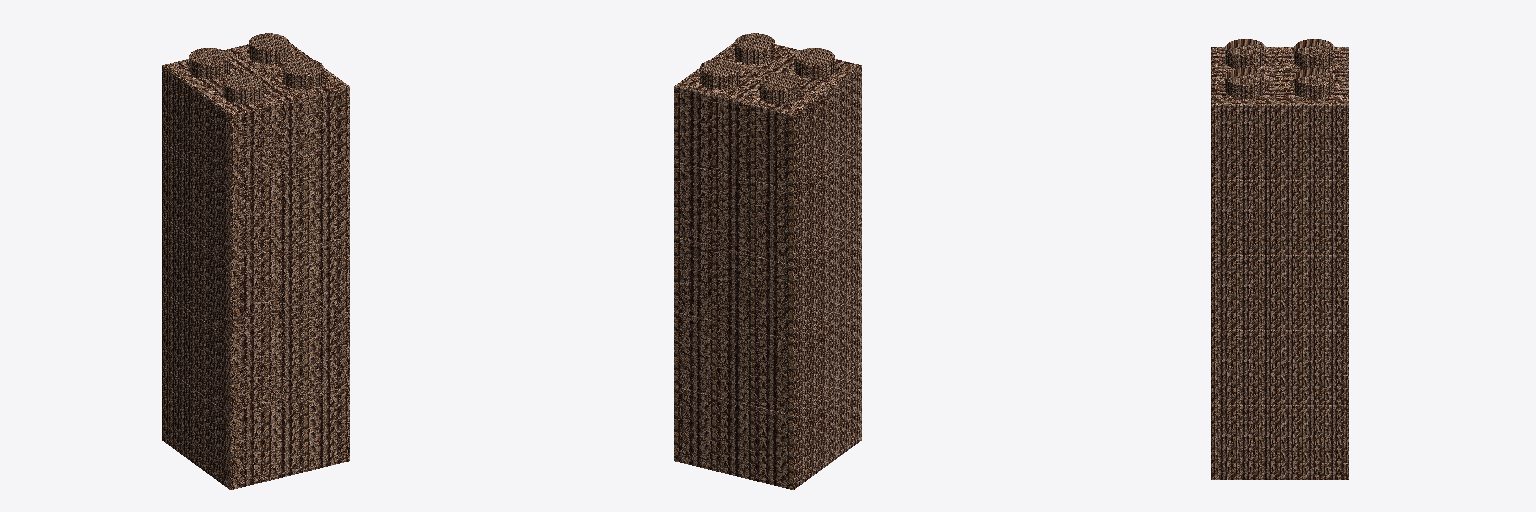
3 renders of one model, left to right at view 1: azimuth 30°, elevation 25°; view 2: azimuth 150°, elevation 25°; view 3: azimuth 270°, elevation 25°, orthographic.
Visible parts, largest first — view 1: Brick_2x008, Brick_2x4, Brick_2x006, Brick_2x007, Brick_2x005; view 2: Brick_2x008, Brick_2x4, Brick_2x006, Brick_2x007, Brick_2x005; view 3: Brick_2x008, Brick_2x4, Brick_2x005, Brick_2x006, Brick_2x007.
Boxes of the visible parts, box(x1,y1,x2,y2) form: Brick_2x008: box(162, 33, 349, 189); Brick_2x4: box(162, 366, 349, 489); Brick_2x006: box(162, 216, 349, 339); Brick_2x007: box(162, 141, 349, 264); Brick_2x005: box(162, 291, 349, 414); Brick_2x008: box(674, 33, 861, 189); Brick_2x4: box(674, 366, 861, 489); Brick_2x006: box(674, 216, 861, 339); Brick_2x007: box(674, 141, 861, 264); Brick_2x005: box(674, 291, 861, 414); Brick_2x008: box(1211, 39, 1348, 179); Brick_2x4: box(1211, 405, 1348, 479); Brick_2x005: box(1211, 330, 1348, 404); Brick_2x006: box(1211, 255, 1348, 329); Brick_2x007: box(1211, 180, 1348, 254).
Size of the model in its own units: 16.1 by 49.8 by 16.
1 materials, 1 textured.